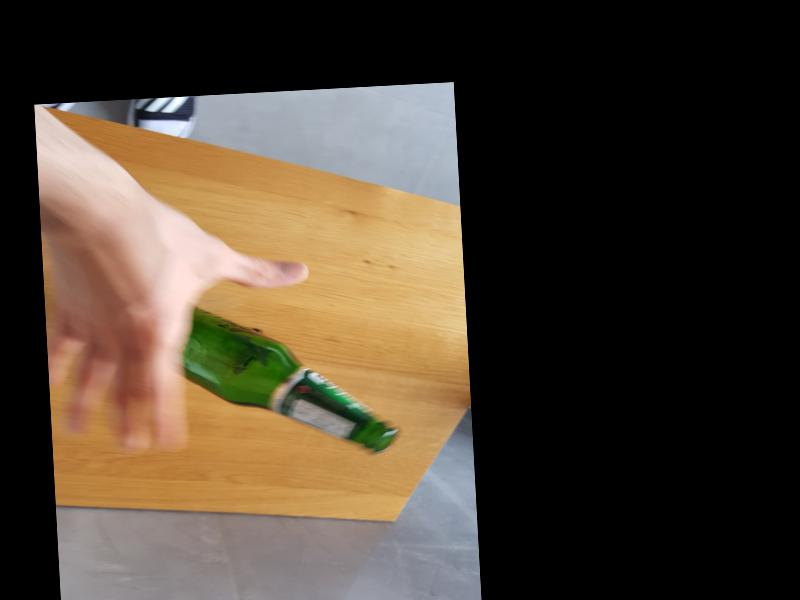Beer: (180, 295, 400, 463)
